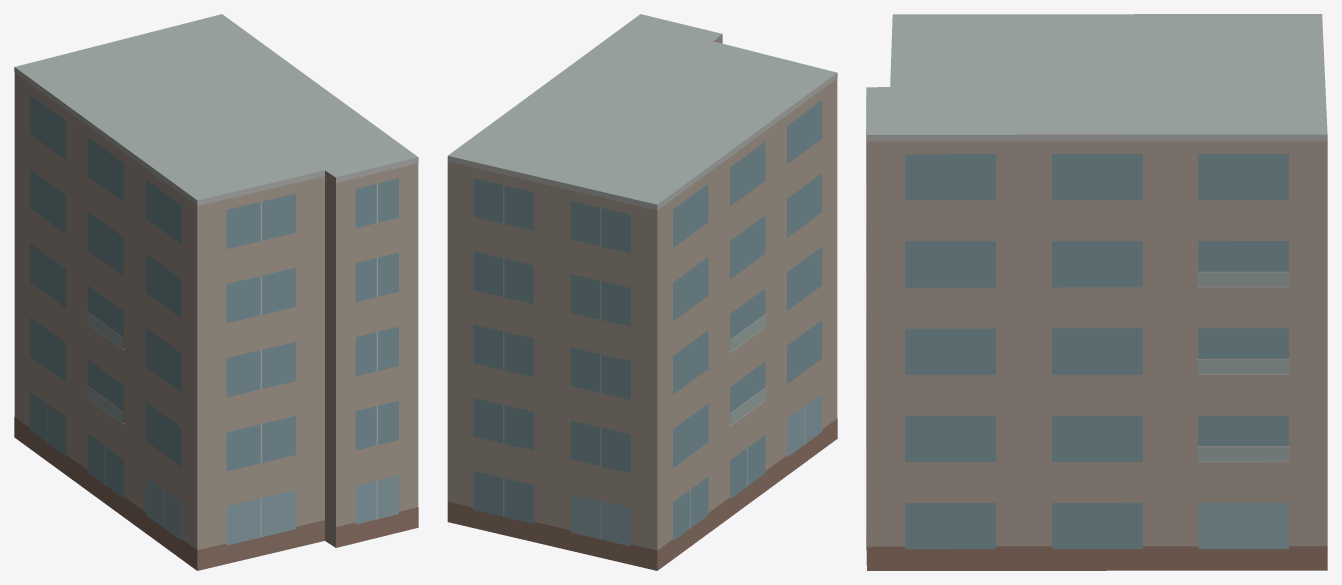
File: survey-upis-32750015.glb
3 renders of one model, left to right at view 1: azimuth 30°, elevation 25°; view 2: azimuth 150°, elevation 25°; view 3: azimuth 270°, elevation 25°, orthographic. The views are drawn at different scales.
Parts seen in each view (by area): view 1: survey-upis-32750015.tmp; view 2: survey-upis-32750015.tmp; view 3: survey-upis-32750015.tmp.
Boxes of the visible parts, left/top/right/bottom form: survey-upis-32750015.tmp: left=14, top=14, right=418, bottom=570; survey-upis-32750015.tmp: left=447, top=14, right=837, bottom=570; survey-upis-32750015.tmp: left=866, top=14, right=1327, bottom=570.
Size of the model in its own units: 9.42 by 15.75 by 15.11.
